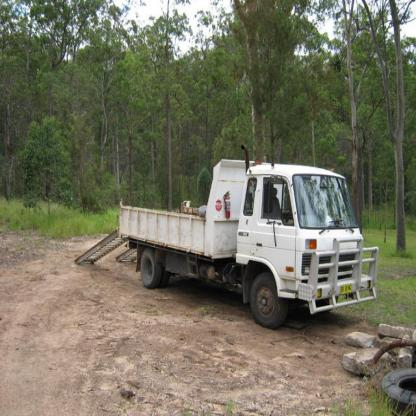dump_truck: (120, 130, 383, 332)
